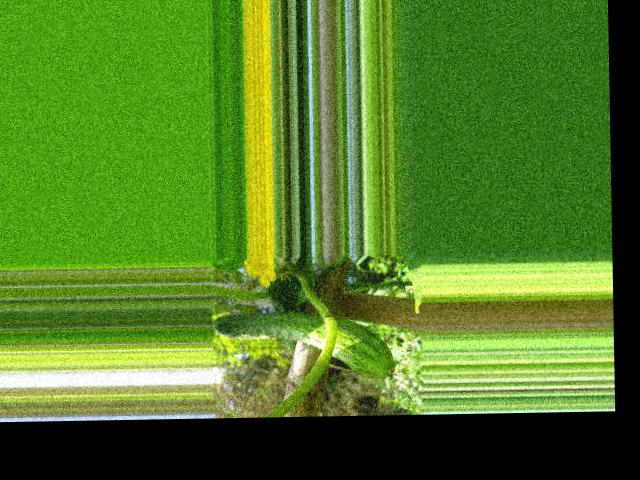cucumber: (211, 310, 395, 380)
